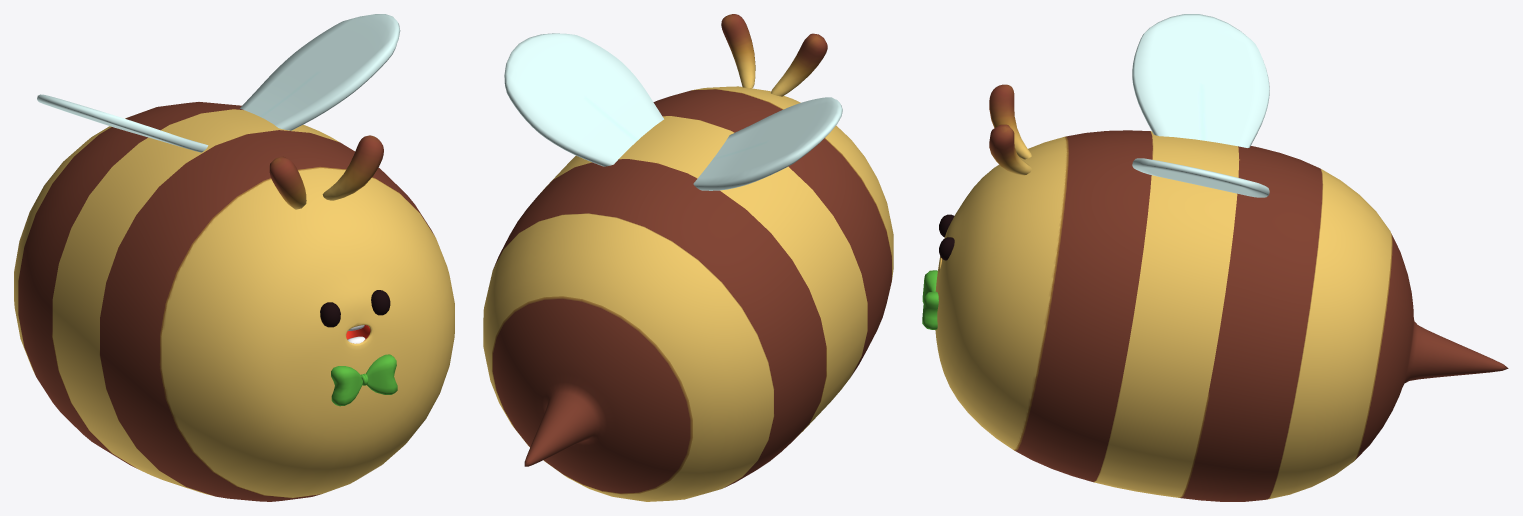
The model's file is green_bee2.gltf.
The picture shows the model from 3 angles, left to right: view 1: azimuth 30°, elevation 25°; view 2: azimuth 150°, elevation 25°; view 3: azimuth 270°, elevation 25°; orthographic projection. The views are drawn at different scales.
Visible parts, largest first — view 1: BodyGreen.001; view 2: BodyGreen.001; view 3: BodyGreen.001.
Boxes of the visible parts, bbox=[...] form: BodyGreen.001: bbox=[14, 14, 454, 501]; BodyGreen.001: bbox=[483, 14, 893, 501]; BodyGreen.001: bbox=[922, 14, 1508, 501].
Bounding box in the file's own units: 1.71 × 1.99 × 2.68.
Materials: 1 (1 with a texture image).
